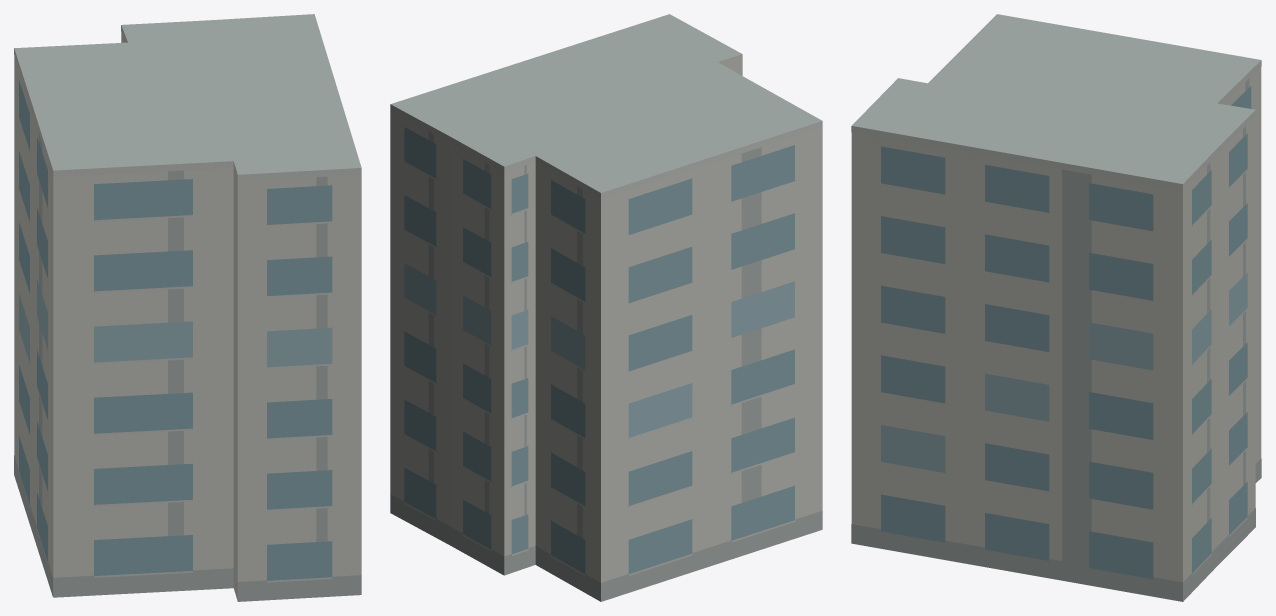
Rendered from survey-upis-32528784.glb.
3 renders of one model, left to right at view 1: azimuth 30°, elevation 25°; view 2: azimuth 150°, elevation 25°; view 3: azimuth 270°, elevation 25°, orthographic. The views are drawn at different scales.
Parts seen in each view (by area): view 1: survey-upis-32528784.tmp; view 2: survey-upis-32528784.tmp; view 3: survey-upis-32528784.tmp.
Part boxes in pixels (x1,y1,x2,y2): survey-upis-32528784.tmp: [14, 14, 361, 601]; survey-upis-32528784.tmp: [390, 14, 822, 601]; survey-upis-32528784.tmp: [851, 14, 1261, 601].
Size of the model in its own units: 13.46 by 15.4 by 13.71.
